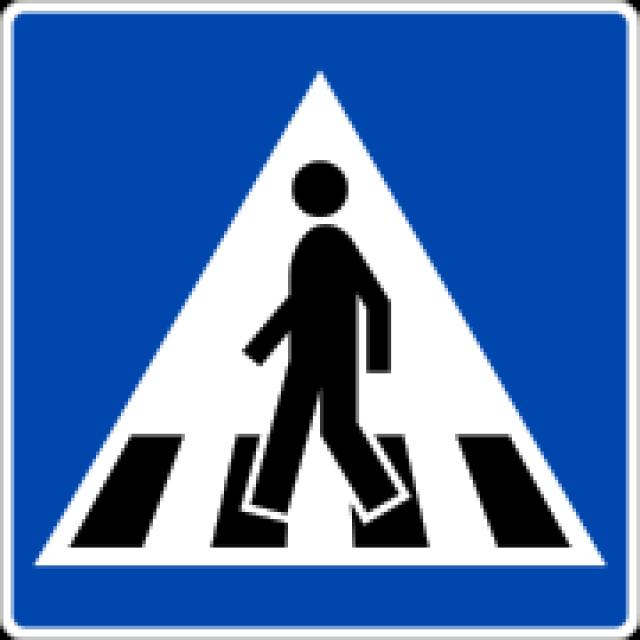Pedestrian crosswalk: (20, 54, 618, 596)
